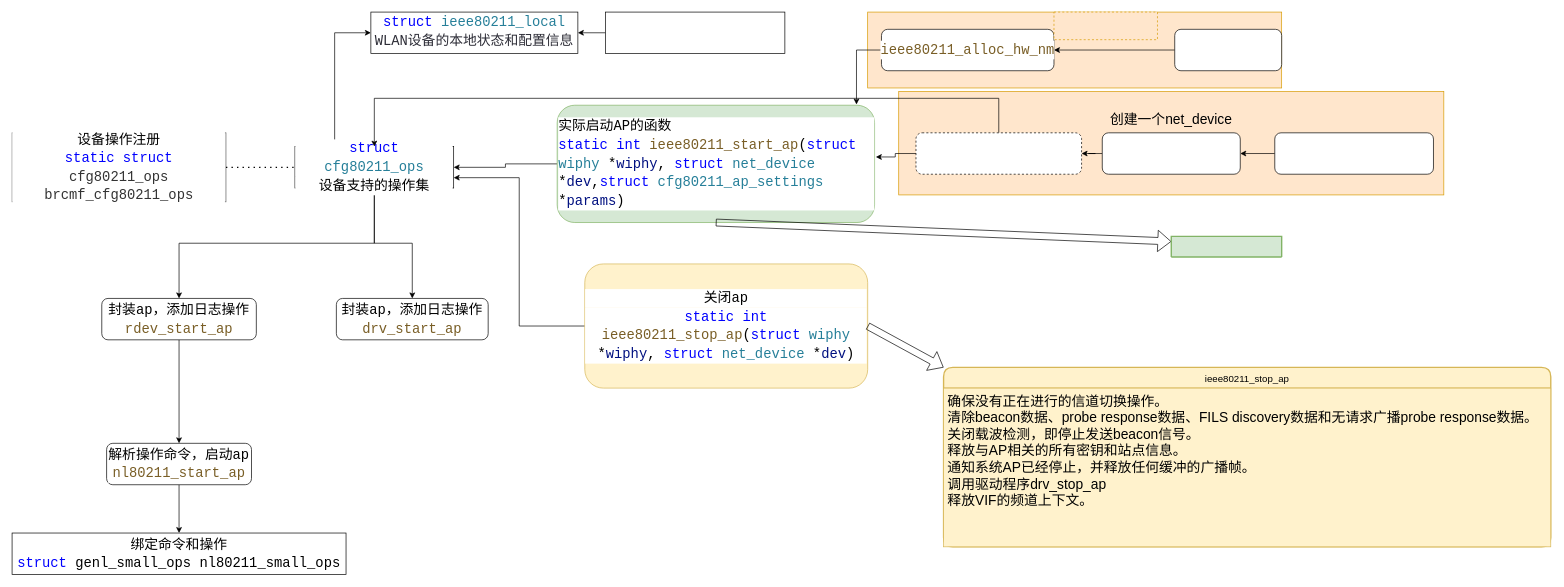
The diagram is 1564 pixels wide and 587 high, and some of its shapes have lost their labels. The box of each missing label's shape, as (x1, y1, x2, y2) in pixels:
alloc_netdev_mqs: (1274, 132, 1433, 174)
ieee80211_add_iface: (915, 132, 1082, 174)
ieee80211_if_add: (1102, 132, 1240, 174)
ieee80211_start_ap: (1170, 235, 1282, 257)
struct wiphy 无线硬件描述: (605, 11, 785, 53)
wiphy_new_nm: (1174, 29, 1282, 71)
创建一个wiphy: (1053, 11, 1157, 40)
